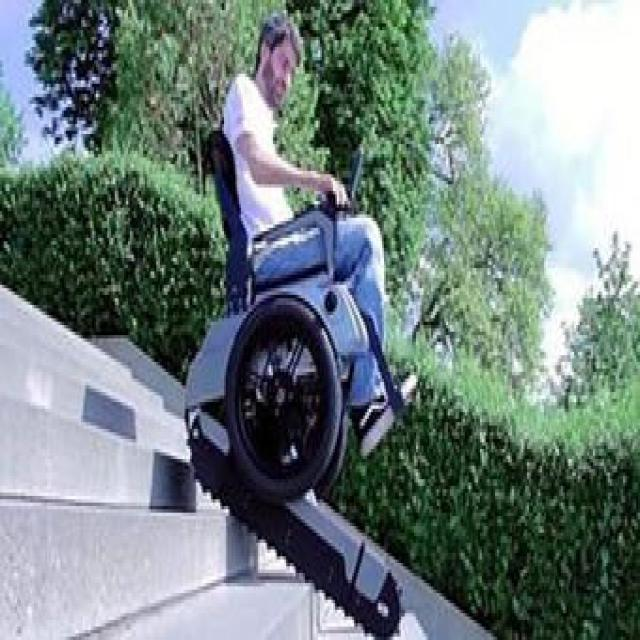wheelchair: (184, 107, 410, 493)
